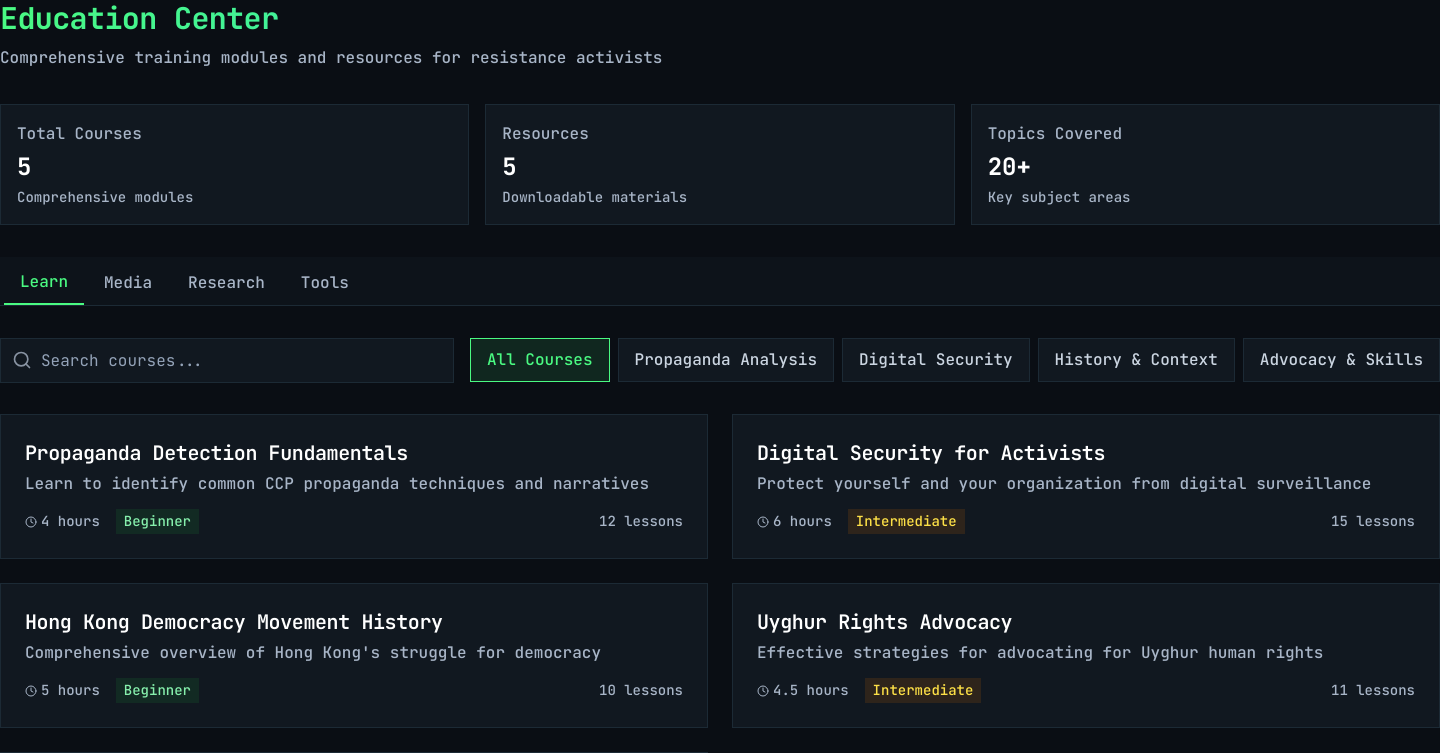
Test case: EducationalResources › filters modules by search query
Type "Hong Kong" into the field with placeholder "Search courses...". click: (227, 361)
box: [0,338,454,383]
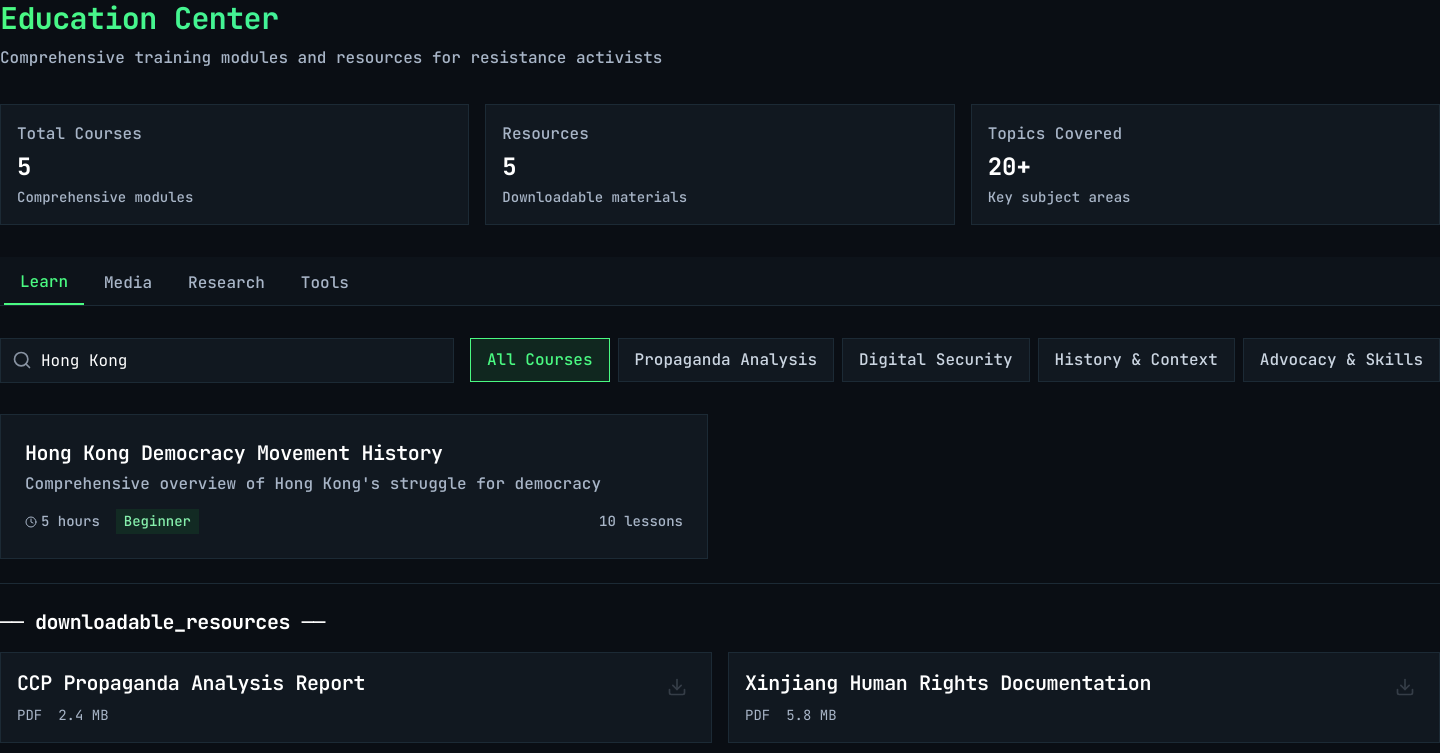
Expected: the heading "Hong Kong Democracy Movement History" is shown, [25,440,443,466]
Expected: the button "Propaganda Detection Fundamentals" is gone
